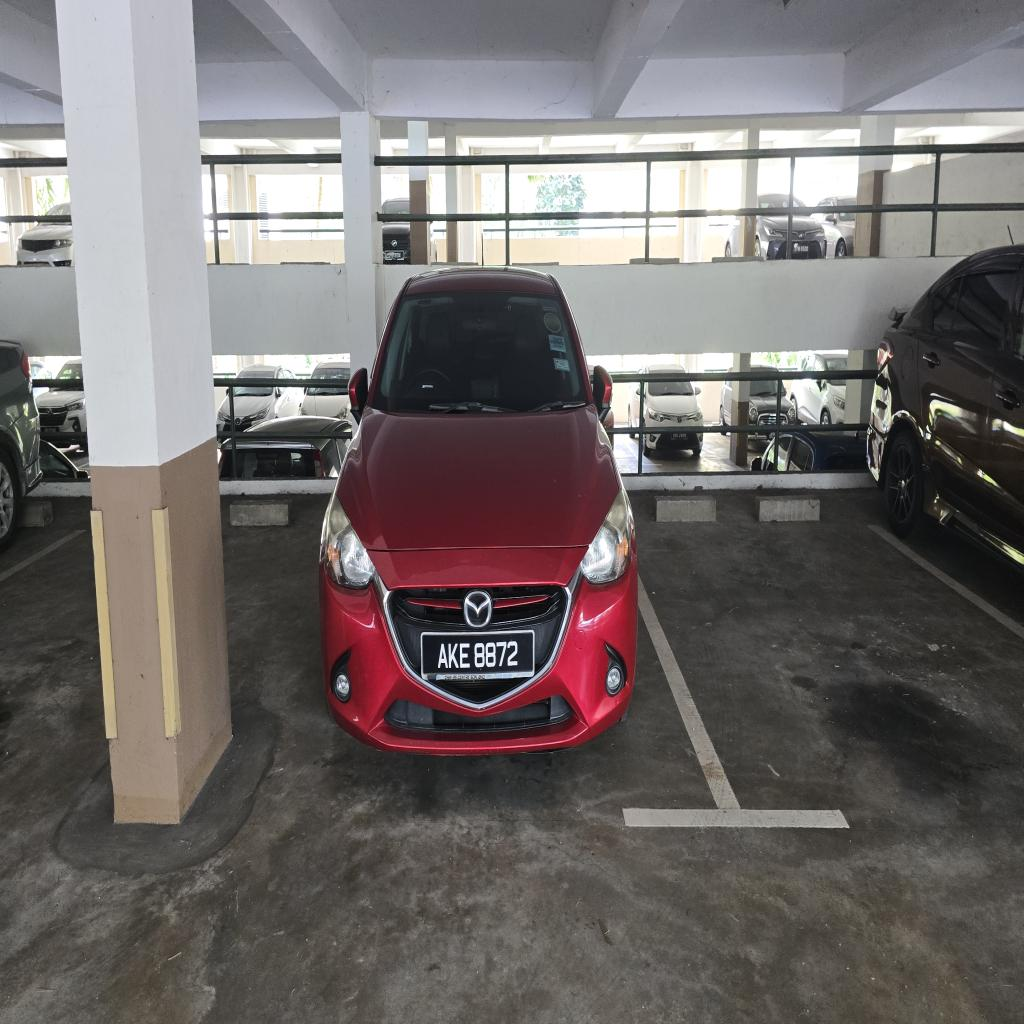car: (322, 270, 637, 753)
car plate: (421, 631, 534, 681)
